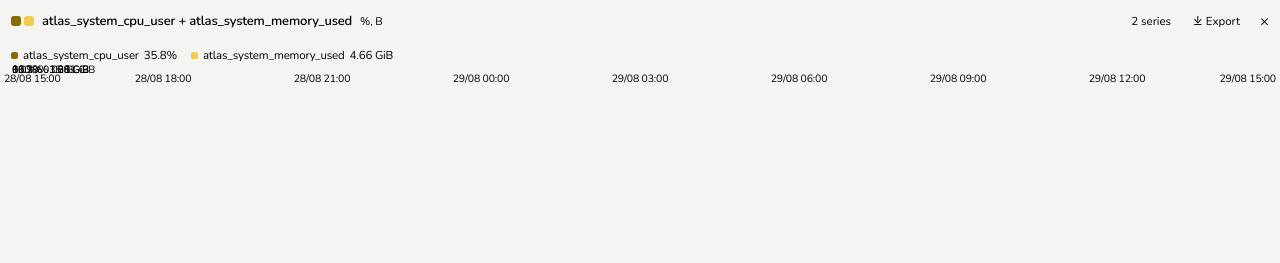
Scenario: ChartPanelComponent › offers the series menu from the header of a merged chart only, anchored under the button, and marks the button while the menu is open
Click the button with class "chart-panel-header-series".
click(1151, 21)  # box [1124,11,1178,31]
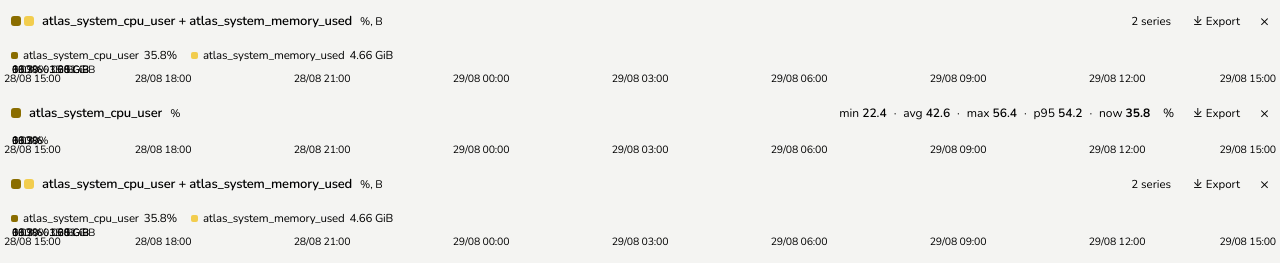
Check: the button with class "chart-panel-header-series-open" is shown, box [1124,174,1178,194]
